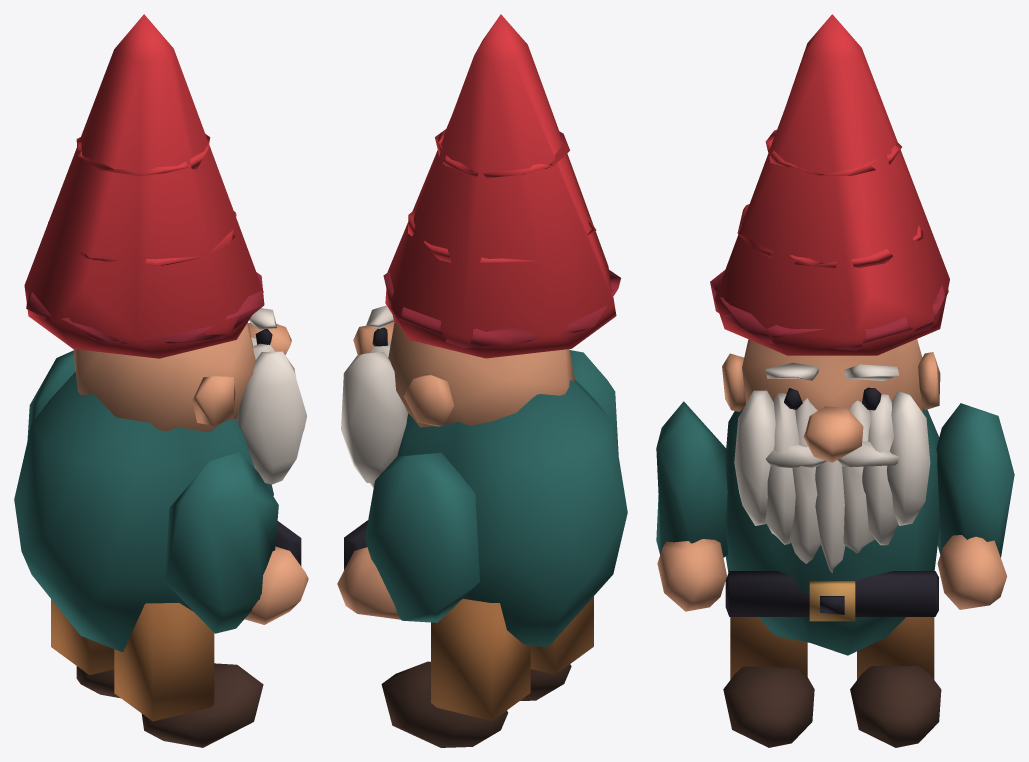
3 renders of one model, left to right at view 1: azimuth 30°, elevation 25°; view 2: azimuth 150°, elevation 25°; view 3: azimuth 270°, elevation 25°, orthographic.
Parts seen in each view (by area): view 1: root_pal_backpackTeal, root_pal_survivorRed, root_pal_skinWarm, root_pal_woodWarm, root_pal_picketWhite, root_pal_leather, root_pal_redDark, root_pal_uiDark; view 2: root_pal_backpackTeal, root_pal_survivorRed, root_pal_skinWarm, root_pal_woodWarm, root_pal_picketWhite, root_pal_leather, root_pal_redDark, root_pal_uiDark; view 3: root_pal_survivorRed, root_pal_backpackTeal, root_pal_picketWhite, root_pal_skinWarm, root_pal_leather, root_pal_uiDark, root_pal_woodWarm, root_pal_redDark, root_pal_brass.
Part boxes in pixels (x1,y1,x2,y2): root_pal_backpackTeal: (14, 350, 278, 651); root_pal_survivorRed: (24, 14, 263, 358); root_pal_skinWarm: (73, 322, 308, 624); root_pal_woodWarm: (51, 599, 214, 721); root_pal_picketWhite: (237, 308, 306, 484); root_pal_leather: (76, 663, 263, 747); root_pal_redDark: (26, 272, 264, 343); root_pal_uiDark: (255, 329, 301, 565); root_pal_backpackTeal: (365, 350, 627, 646); root_pal_survivorRed: (385, 14, 616, 358); root_pal_skinWarm: (337, 321, 575, 619); root_pal_woodWarm: (431, 596, 593, 720); root_pal_picketWhite: (341, 305, 407, 487); root_pal_leather: (381, 661, 571, 747); root_pal_redDark: (383, 270, 620, 348); root_pal_uiDark: (344, 327, 387, 569); root_pal_survivorRed: (714, 14, 949, 355); root_pal_backpackTeal: (656, 401, 1014, 655); root_pal_picketWhite: (734, 362, 930, 573); root_pal_skinWarm: (657, 339, 1007, 611); root_pal_leather: (723, 666, 941, 747); root_pal_uiDark: (725, 387, 938, 616); root_pal_woodWarm: (730, 570, 934, 679); root_pal_redDark: (710, 270, 948, 350); root_pal_brass: (809, 581, 855, 621).
Size of the model in its own units: 0.4492 by 1.18 by 0.5372.
